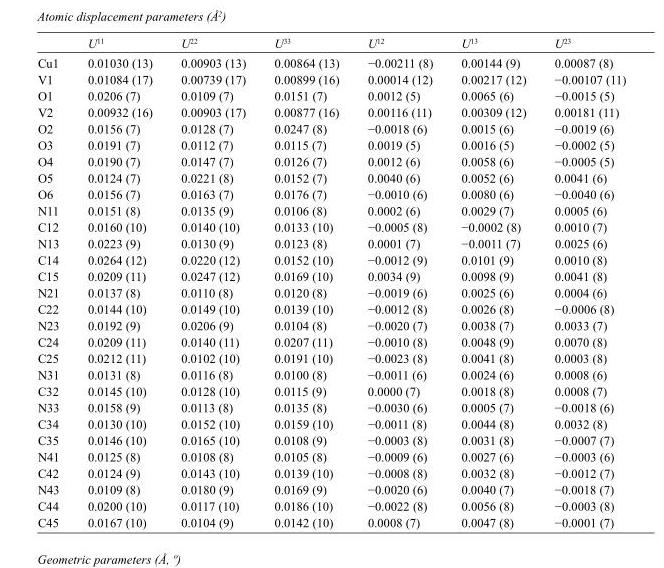table: (36, 36, 625, 528)
table column: (72, 36, 166, 528), (352, 36, 446, 528), (166, 36, 259, 528), (259, 36, 352, 528), (446, 36, 539, 528), (539, 36, 625, 528), (36, 36, 72, 528)
table column header: (36, 36, 625, 52)
table row: (36, 52, 625, 71), (36, 103, 625, 120), (36, 136, 625, 153), (36, 185, 625, 202), (36, 218, 625, 235), (36, 267, 625, 284), (36, 300, 625, 317), (36, 333, 625, 350), (36, 382, 625, 399), (36, 415, 625, 432), (36, 464, 625, 481), (36, 497, 625, 514), (36, 36, 625, 52), (36, 71, 625, 87), (36, 87, 625, 103), (36, 120, 625, 136), (36, 153, 625, 169), (36, 169, 625, 185), (36, 202, 625, 218), (36, 235, 625, 251), (36, 251, 625, 267), (36, 284, 625, 300), (36, 317, 625, 333), (36, 350, 625, 366), (36, 366, 625, 382), (36, 399, 625, 415), (36, 432, 625, 448), (36, 448, 625, 464), (36, 481, 625, 497), (36, 514, 625, 528)
